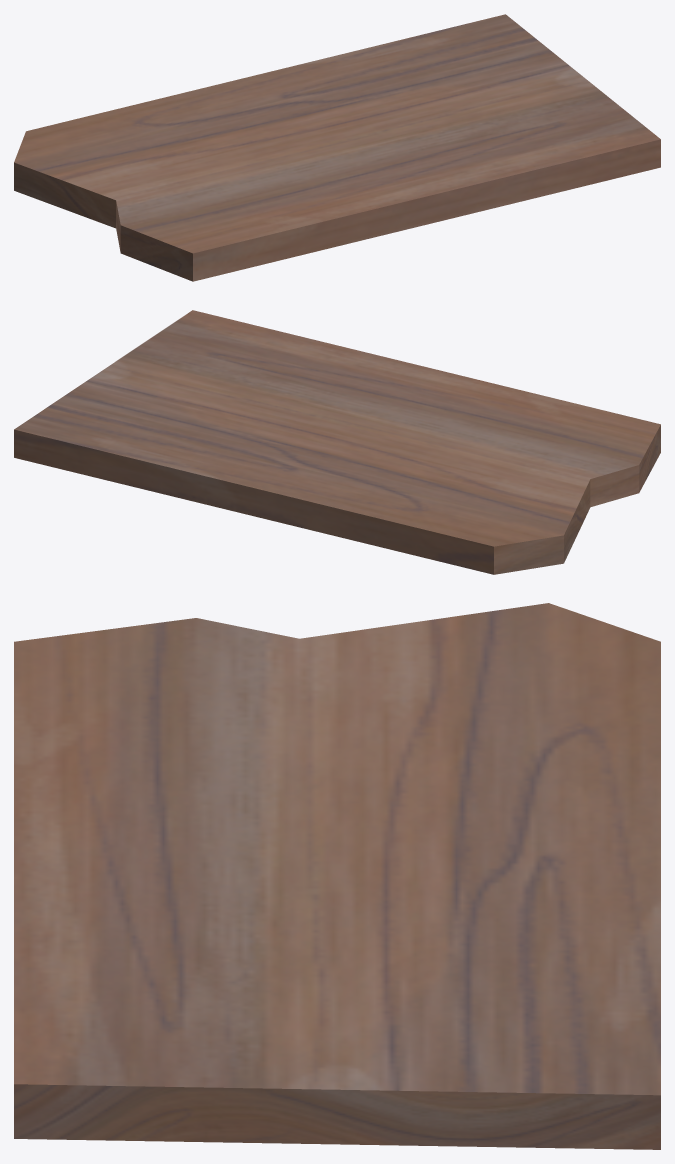
The model's file is plank-split-a1.fbx.
3 views of the same model, one above another, from view 1: azimuth 30°, elevation 25°; view 2: azimuth 150°, elevation 25°; view 3: azimuth 270°, elevation 25° (orthographic). The views are drawn at different scales.
Visible parts, largest first — view 1: plank-split-a1; view 2: plank-split-a1; view 3: plank-split-a1.
Part boxes in pixels (x1,y1,x2,y2): plank-split-a1: (14,14,660,281); plank-split-a1: (14,310,660,574); plank-split-a1: (14,603,660,1149).
Size of the model in its own units: 19.23 by 0.9957 by 10.68.
